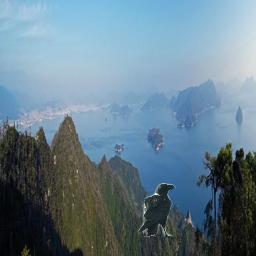Crow: (138, 183, 176, 237)
